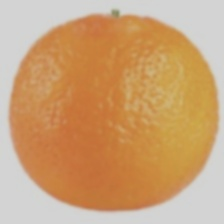orange: (24, 0, 203, 195)
